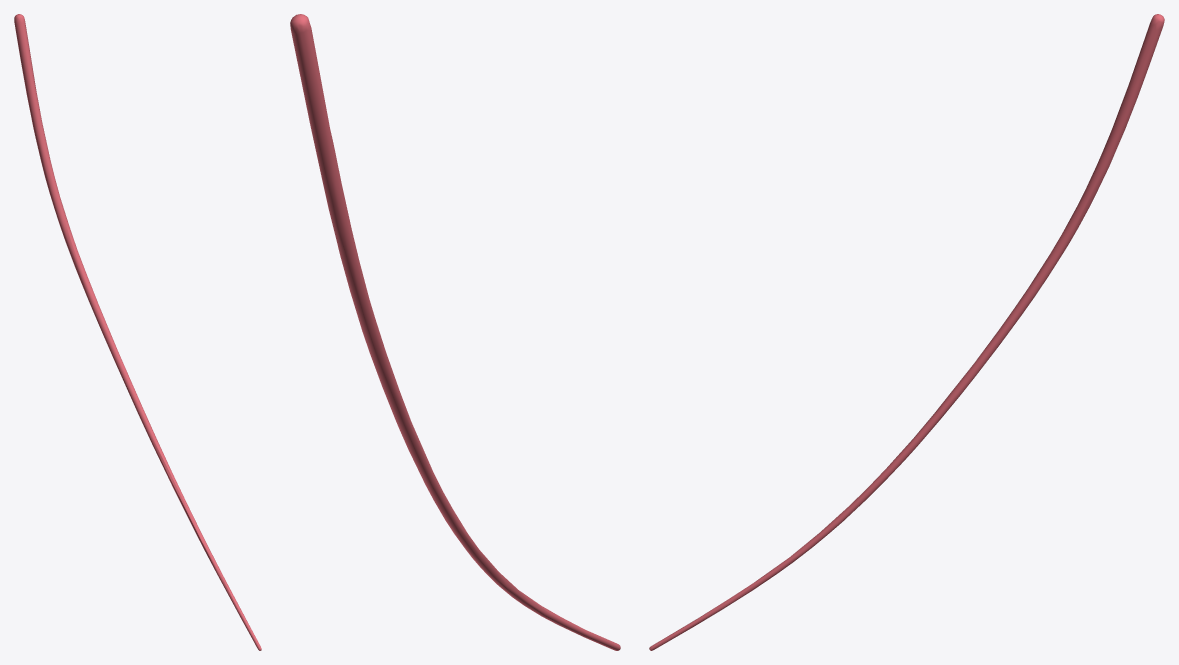
File: fma85099_fj2326.glb
3 views of the same model, side by side, from view 1: azimuth 30°, elevation 25°; view 2: azimuth 150°, elevation 25°; view 3: azimuth 270°, elevation 25° (orthographic). The views are drawn at different scales.
Visible parts, largest first — view 1: FMA85099_FJ2326; view 2: FMA85099_FJ2326; view 3: FMA85099_FJ2326.
Part boxes in pixels (<box>): FMA85099_FJ2326: <box>14,14,261,650</box>; FMA85099_FJ2326: <box>290,14,620,650</box>; FMA85099_FJ2326: <box>649,14,1164,650</box>.
Size of the model in its own units: 0.00614 by 0.0685 by 0.0521.
